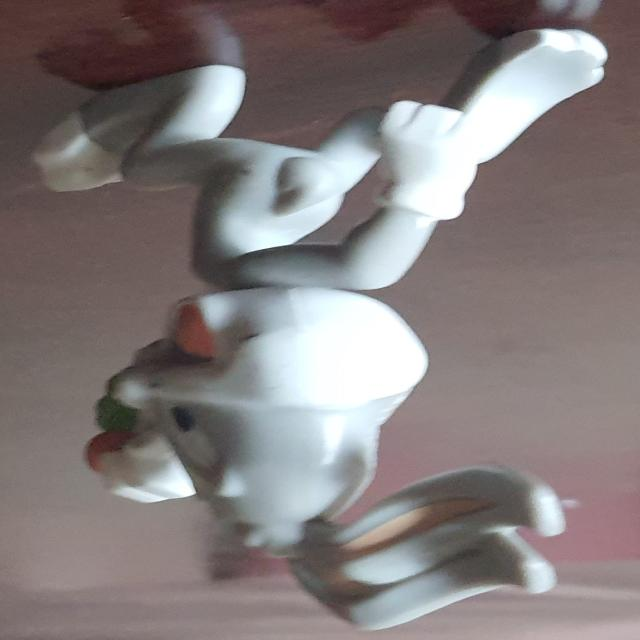Rabbit: (30, 26, 609, 631)
